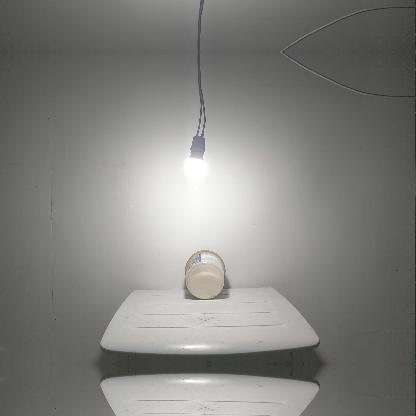Lady-s-Choice: (184, 249, 226, 299)
